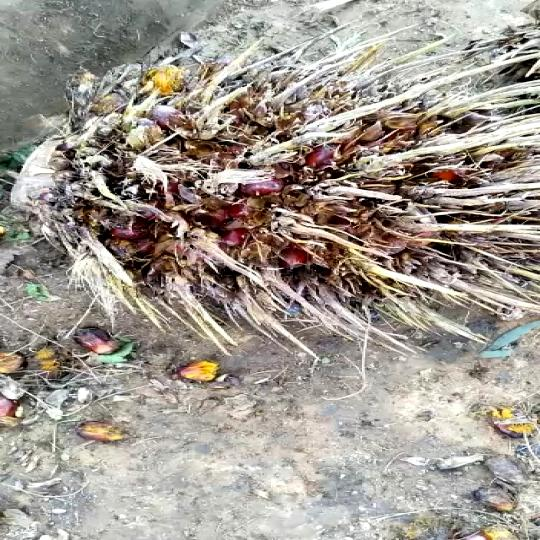terlalu masak: (0, 40, 540, 360)
